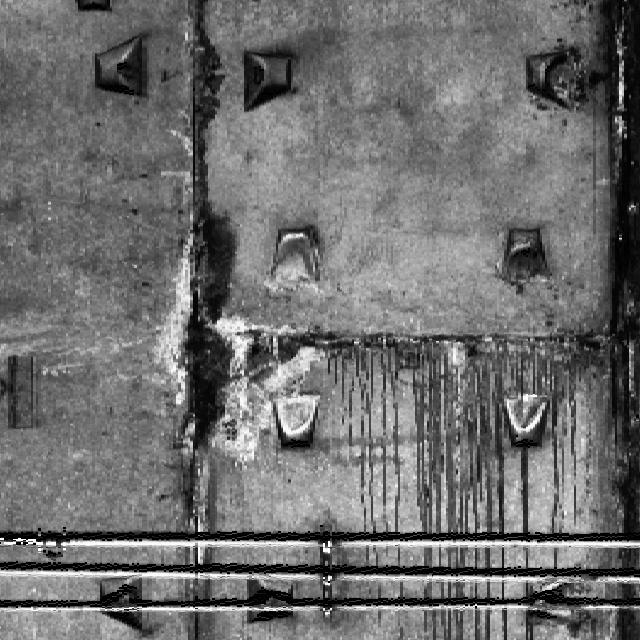leakage: (147, 0, 331, 536), (342, 324, 580, 639), (582, 1, 639, 639)
